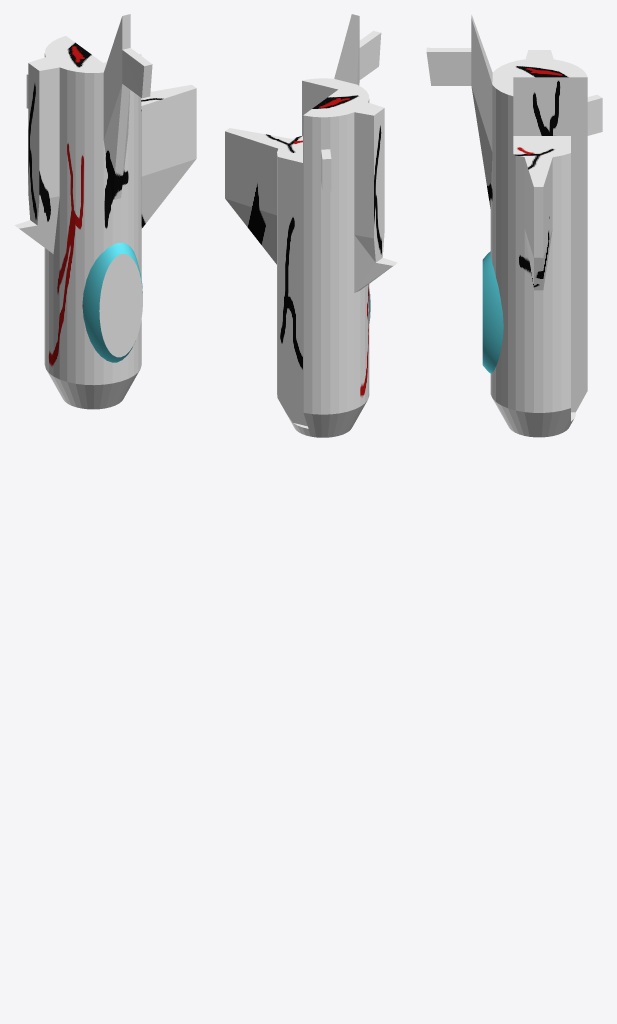
Rendered from TuirakuSentouki.obj.
3 views of the same model, side by side, from view 1: azimuth 30°, elevation 25°; view 2: azimuth 150°, elevation 25°; view 3: azimuth 270°, elevation 25° (orthographic). The views are drawn at different scales.
Parts seen in each view (by area): view 1: 円錐.001; view 2: 円錐.001; view 3: 円錐.001.
Part boxes in pixels (bbox=[...]): 円錐.001: bbox=[14, 14, 196, 409]; 円錐.001: bbox=[225, 14, 397, 437]; 円錐.001: bbox=[426, 15, 602, 437].
Size of the model in its own units: 4.22 by 22.99 by 3.62.
